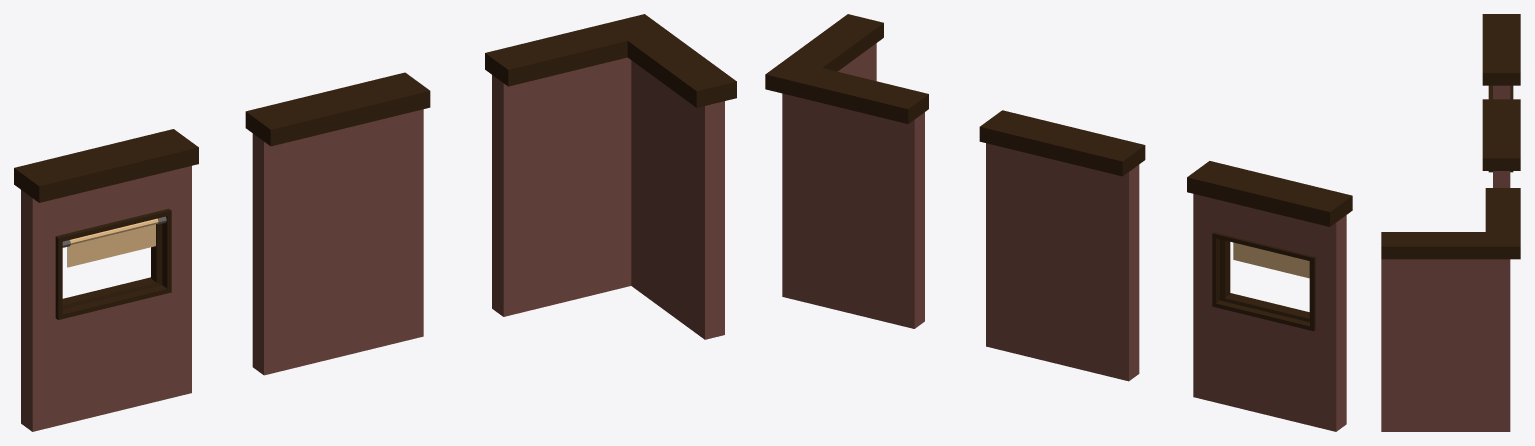
The model's file is WallsObjecten.fbx.
The picture shows the model from 3 angles, left to right: view 1: azimuth 30°, elevation 25°; view 2: azimuth 150°, elevation 25°; view 3: azimuth 270°, elevation 25°; orthographic projection. The views are drawn at different scales.
Parts seen in each view (by area): view 1: WallCorner, WallBase, WallWindow; view 2: WallCorner, WallBase, WallWindow; view 3: WallCorner, WallWindow, WallBase.
Boxes of the visible parts, left/top/right/bottom form: WallCorner: left=485, top=14, right=736, bottom=339; WallBase: left=245, top=72, right=430, bottom=375; WallWindow: left=14, top=129, right=198, bottom=431; WallCorner: left=765, top=14, right=928, bottom=328; WallBase: left=979, top=110, right=1145, bottom=381; WallWindow: left=1187, top=161, right=1352, bottom=431; WallCorner: left=1381, top=188, right=1520, bottom=431; WallWindow: left=1482, top=14, right=1520, bottom=172; WallBase: left=1482, top=99, right=1520, bottom=187.
Bounding box in the file's own units: 790 × 300 × 200.
